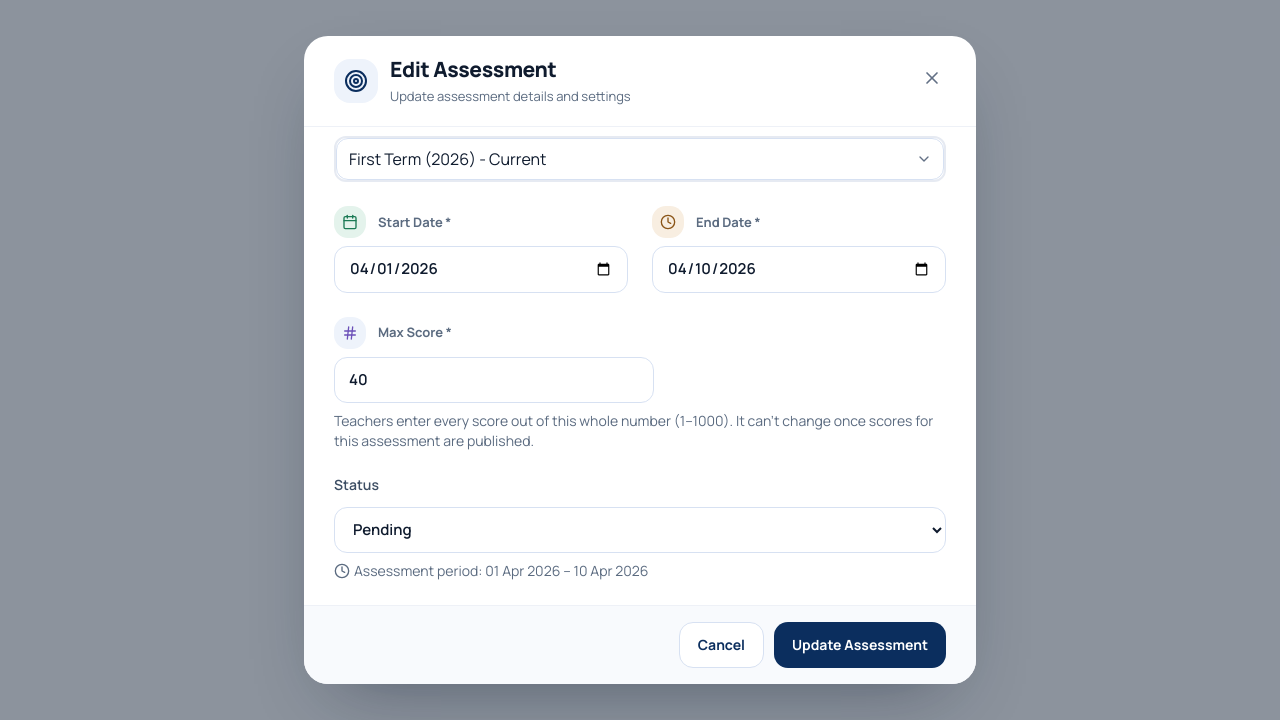
Test: AssessmentCreateModal max score field › shows the scores-above-max conflict on the field
The image size is (1280, 720).
(page scrolled)
Step 1. Replace the text in the number field labelled "Max Score *" with "30" → (494, 380), box [334, 357, 654, 403]
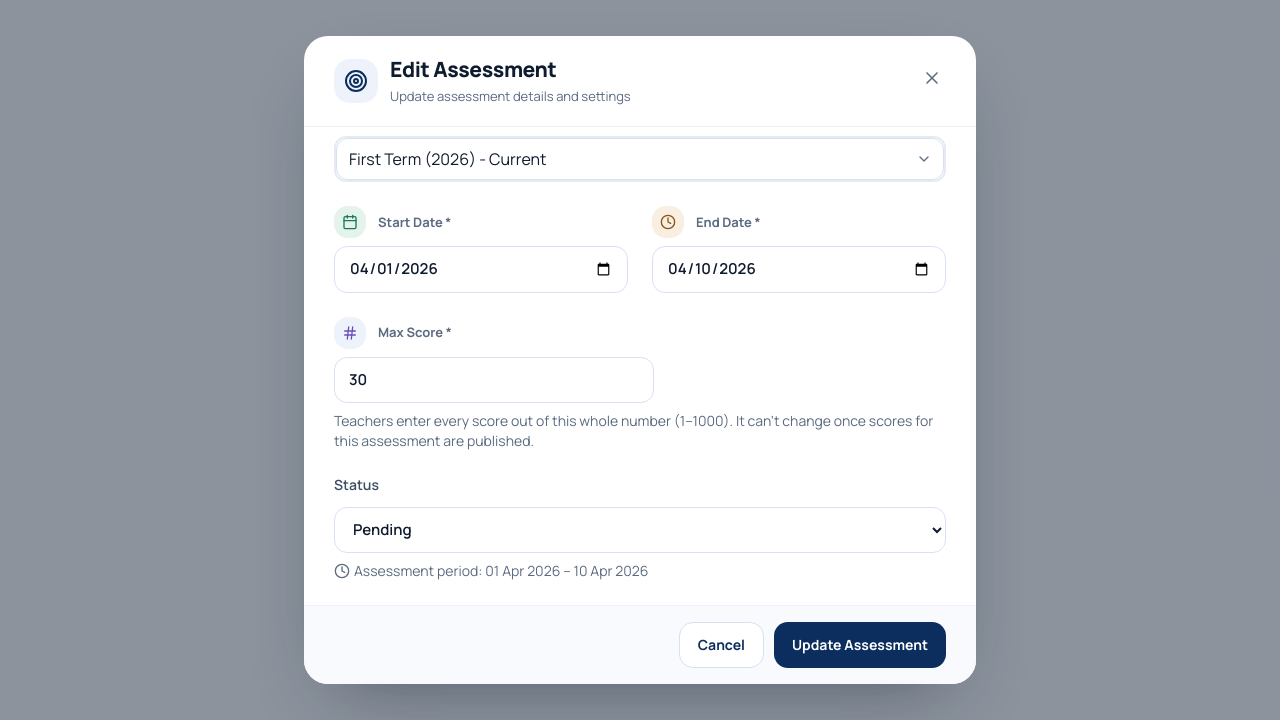
Step 2. Click the button "Update Assessment" → click(860, 645), box [774, 622, 946, 668]
(page scrolled)
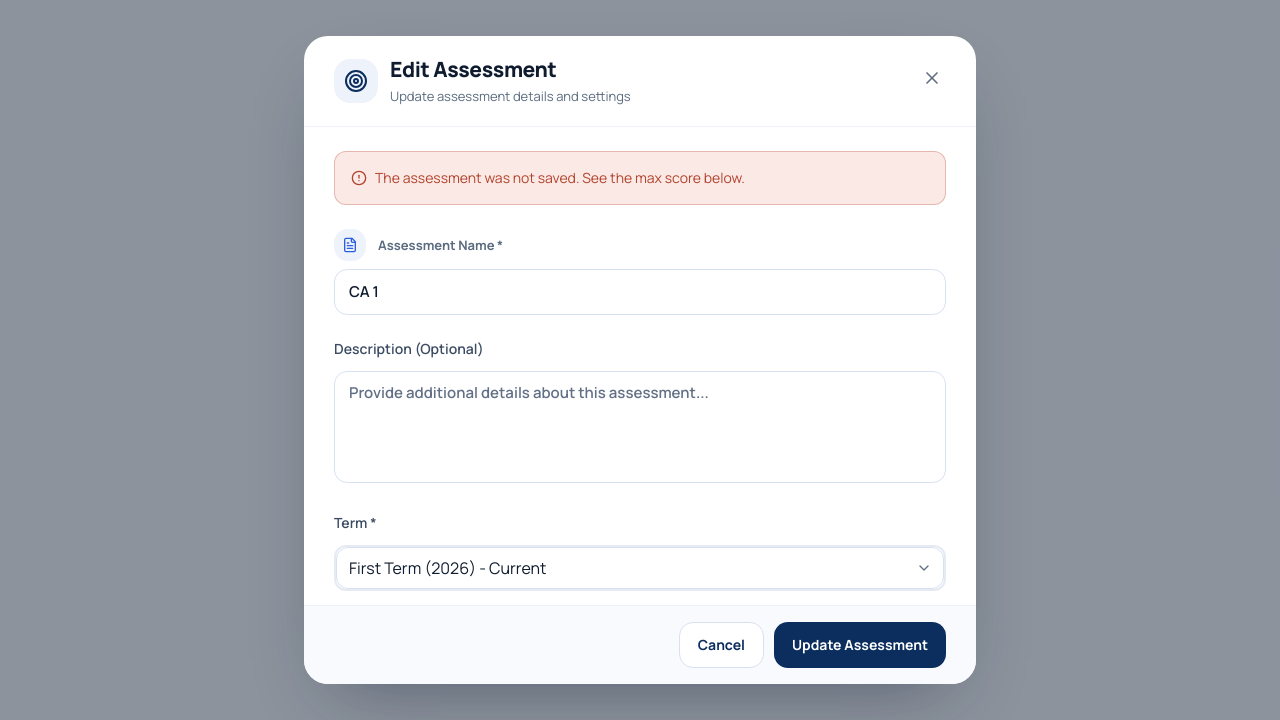
Expected: the message reads "The assessment was not saved. See the max score below.", [375, 168, 745, 187]
